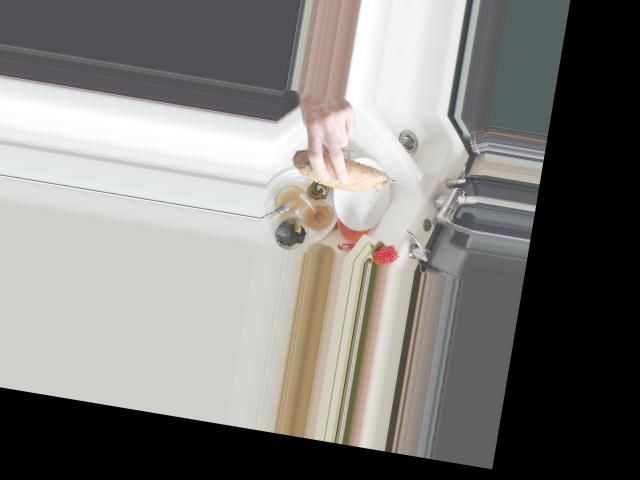sweet_potato: (285, 141, 403, 197)
